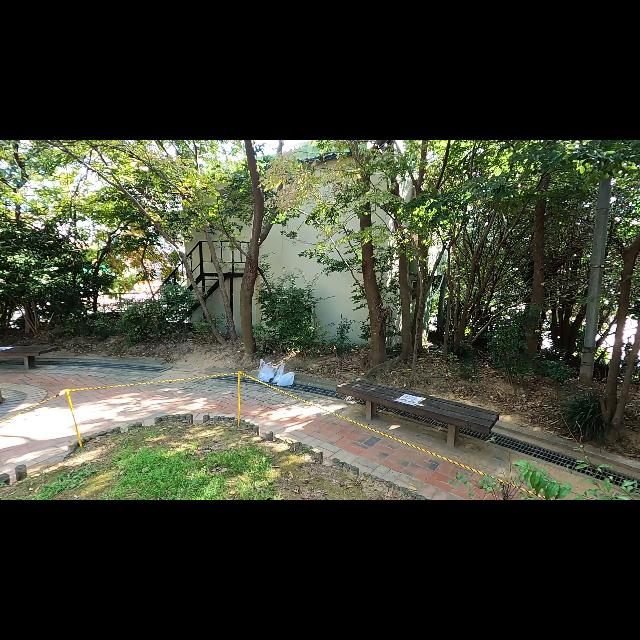trash: (256, 357, 276, 385), (276, 368, 298, 388), (272, 357, 286, 385)
